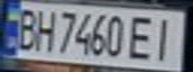0: (106, 11, 130, 60)
4: (72, 9, 93, 56)
6: (90, 11, 109, 57)
7: (54, 8, 78, 55)
B: (9, 4, 42, 52)
E: (124, 12, 160, 61)
H: (30, 6, 57, 52)
I: (148, 14, 184, 62)
